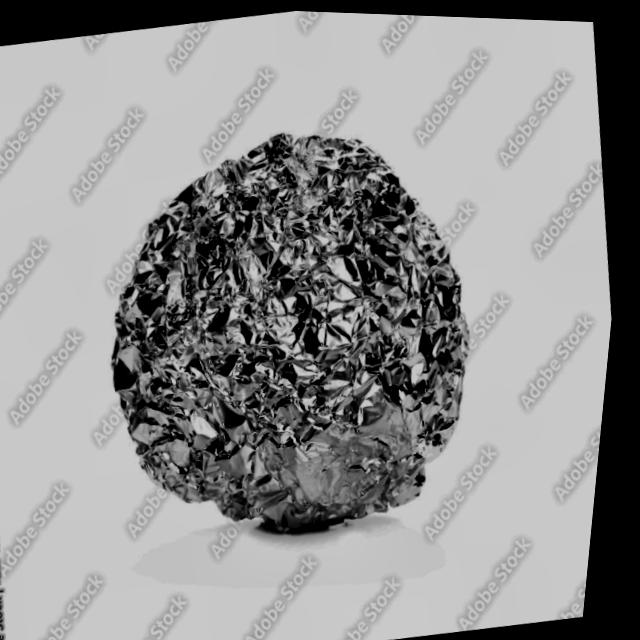Foil: (18, 82, 540, 588)
